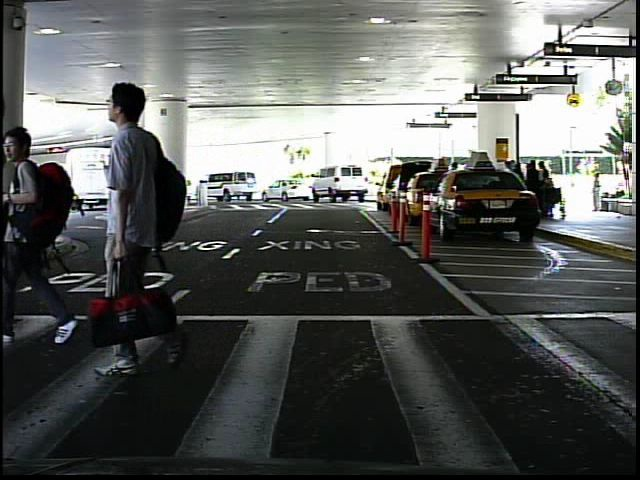person: (89, 72, 202, 388), (6, 113, 81, 351), (51, 171, 70, 221), (588, 170, 607, 216)
